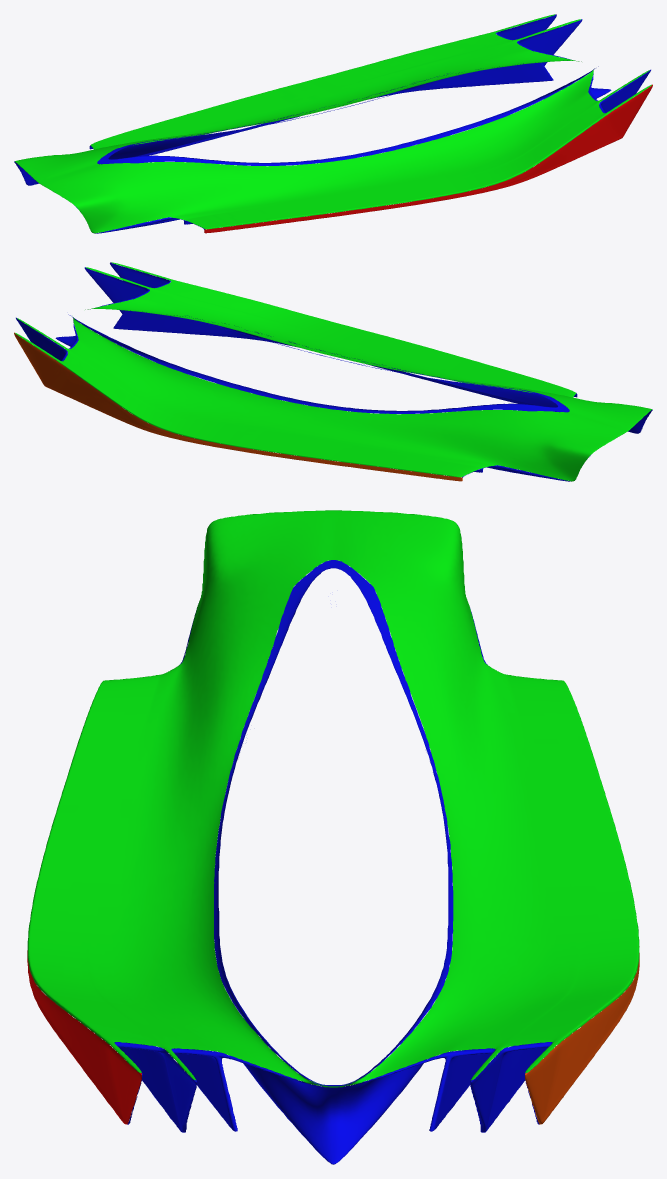
File: f1-floor.glb
3 views of the same model, one above another, from view 1: azimuth 30°, elevation 25°; view 2: azimuth 150°, elevation 25°; view 3: azimuth 270°, elevation 25° (orthographic). The views are drawn at different scales.
Parts seen in each view (by area): view 1: floor_rb_mixer_Plane.066; view 2: floor_rb_mixer_Plane.066; view 3: floor_rb_mixer_Plane.066.
Part boxes in pixels (x1,y1,x2,y2): floor_rb_mixer_Plane.066: [14, 14, 652, 233]; floor_rb_mixer_Plane.066: [14, 262, 652, 481]; floor_rb_mixer_Plane.066: [27, 510, 639, 1164].
Size of the model in its own units: 8.53 by 0.7802 by 3.91.
